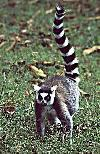cat: (30, 1, 83, 150)
